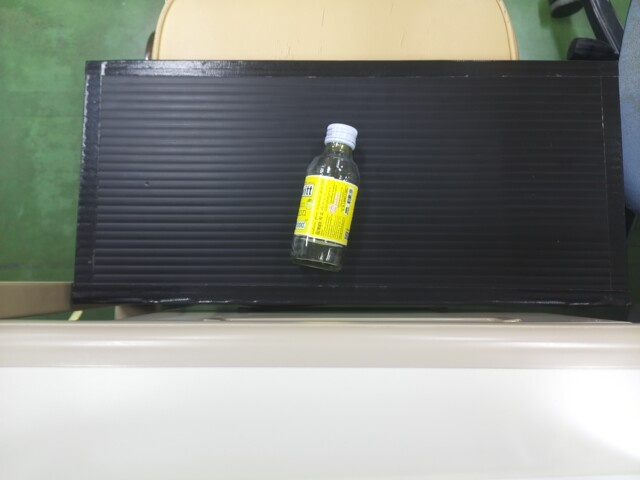glass_bottle: (299, 119, 359, 268)
